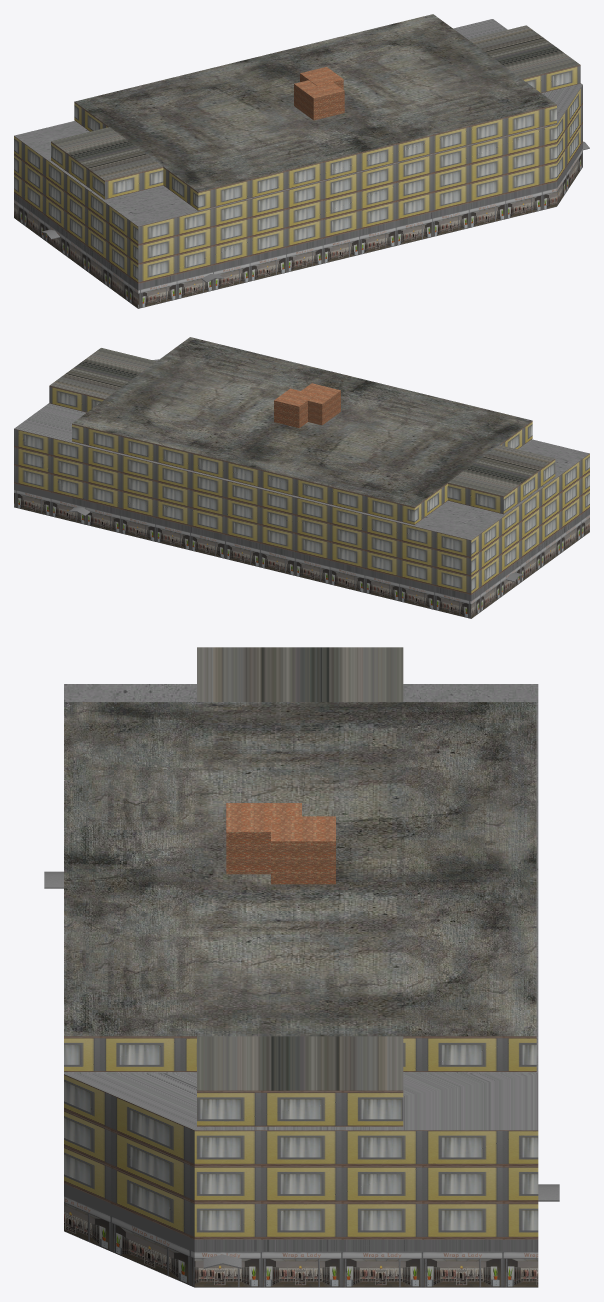
The model's file is LOD01_Building_5stores_CommericalAndHouse.obj.
The picture shows the model from 3 angles, top to bottom: view 1: azimuth 30°, elevation 25°; view 2: azimuth 150°, elevation 25°; view 3: azimuth 270°, elevation 25°; orthographic projection. The views are drawn at different scales.
Visible parts, largest first — view 1: LOD01_Building_5stores_CommericalAndHouse; view 2: LOD01_Building_5stores_CommericalAndHouse; view 3: LOD01_Building_5stores_CommericalAndHouse.
Boxes of the visible parts, x1,y1,x2,y2 form: LOD01_Building_5stores_CommericalAndHouse: (14,14,589,308); LOD01_Building_5stores_CommericalAndHouse: (14,337,589,618); LOD01_Building_5stores_CommericalAndHouse: (44,647,559,1287).
Size of the model in its own units: 27.23 by 6.63 by 12.8.
